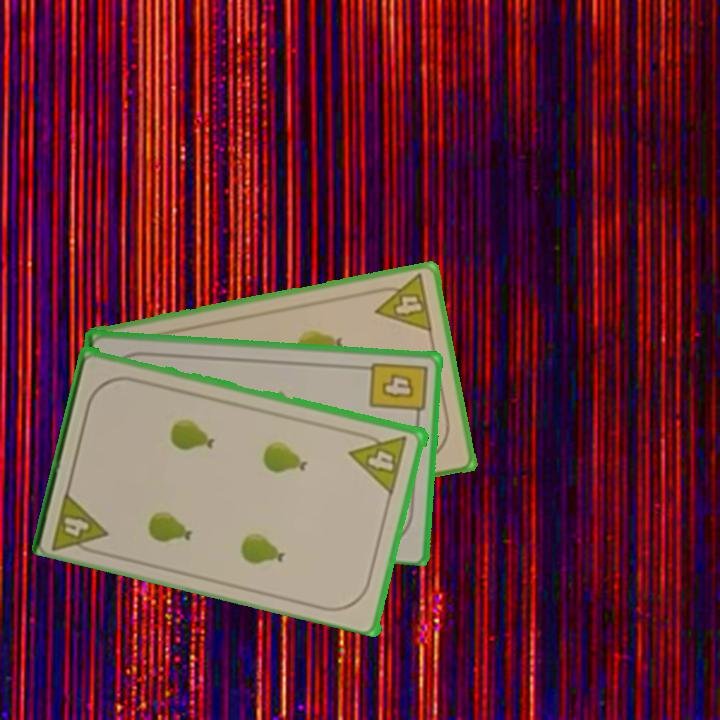4b: (366, 358, 430, 423)
4p: (48, 485, 112, 559), (368, 270, 436, 335), (347, 427, 411, 496)
